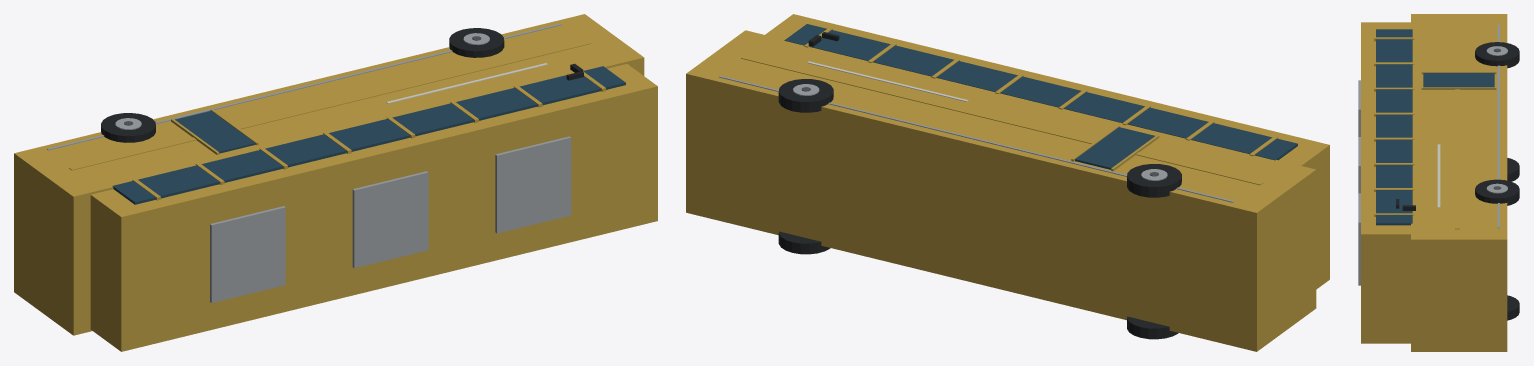
The model's file is RM_Bus_27.glb.
The picture shows the model from 3 angles, left to right: view 1: azimuth 30°, elevation 25°; view 2: azimuth 150°, elevation 25°; view 3: azimuth 270°, elevation 25°; orthographic projection. The views are drawn at different scales.
Visible parts, largest first — view 1: part_001, part_000, part_002, part_039, part_038, part_037, part_013, part_040, part_030, part_024, part_014; view 2: part_000, part_002, part_001, part_013, part_040, part_030, part_024, part_014, part_027, part_021; view 3: part_000, part_001, part_002, part_040, part_013, part_024, part_030, part_014, part_039, part_027, part_021, part_043 (+6 smaller).
Part boxes in pixels (x1=…): part_001: x1=90, y1=64, x2=657, y2=351; part_000: x1=14, y1=14, x2=644, y2=335; part_002: x1=112, y1=66, x2=625, y2=204; part_039: x1=495, y1=136, x2=571, y2=233; part_038: x1=352, y1=171, x2=428, y2=268; part_037: x1=210, y1=206, x2=285, y2=302; part_013: x1=69, y1=41, x2=591, y2=170; part_040: x1=175, y1=111, x2=255, y2=153; part_030: x1=449, y1=28, x2=504, y2=57; part_024: x1=101, y1=113, x2=155, y2=142; part_014: x1=47, y1=23, x2=561, y2=150; part_000: x1=686, y1=30, x2=1316, y2=351; part_002: x1=784, y1=24, x2=1297, y2=160; part_001: x1=765, y1=14, x2=1329, y2=289; part_013: x1=741, y1=56, x2=1263, y2=185; part_040: x1=1075, y1=127, x2=1154, y2=169; part_030: x1=778, y1=79, x2=833, y2=112; part_024: x1=1127, y1=164, x2=1181, y2=197; part_014: x1=719, y1=75, x2=1233, y2=202; part_027: x1=778, y1=231, x2=830, y2=254; part_021: x1=1127, y1=316, x2=1178, y2=339; part_000: x1=1411, y1=14, x2=1507, y2=351; part_001: x1=1361, y1=22, x2=1410, y2=343; part_002: x1=1376, y1=29, x2=1412, y2=225; part_040: x1=1423, y1=73, x2=1494, y2=87; part_013: x1=1455, y1=23, x2=1459, y2=229; part_024: x1=1475, y1=42, x2=1519, y2=68; part_030: x1=1475, y1=179, x2=1519, y2=205; part_014: x1=1497, y1=24, x2=1499, y2=228; part_039: x1=1358, y1=193, x2=1360, y2=285; part_027: x1=1507, y1=295, x2=1519, y2=320; part_021: x1=1507, y1=158, x2=1519, y2=181; part_043: x1=1437, y1=144, x2=1440, y2=207.
Bounding box in the file's own units: 11.22 × 2.93 × 3.4.
